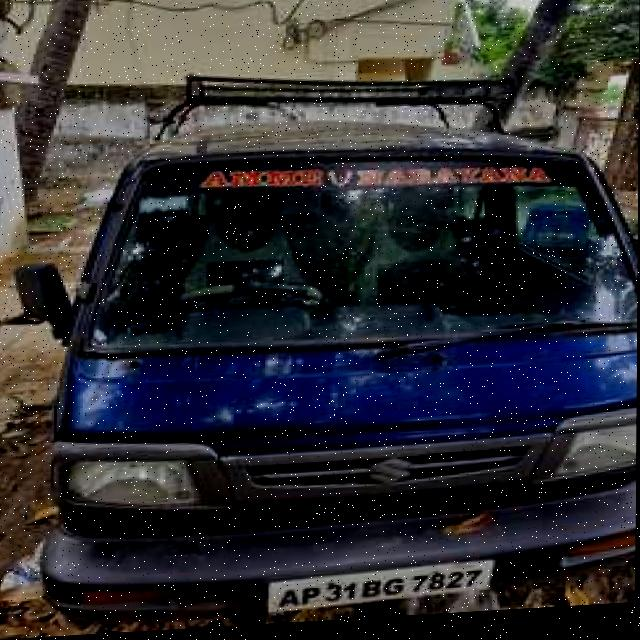plate: (266, 562, 496, 619)
